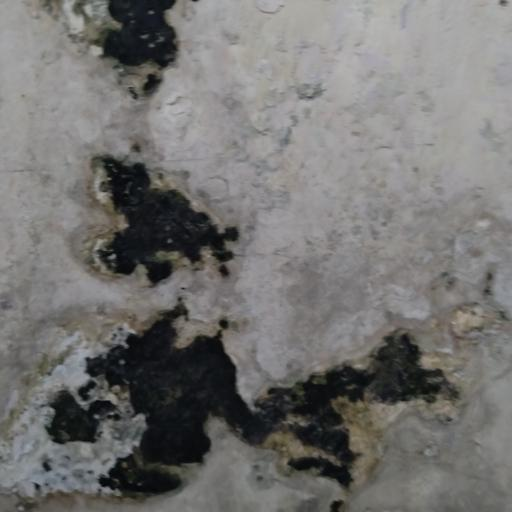algae: (54, 4, 476, 505)
